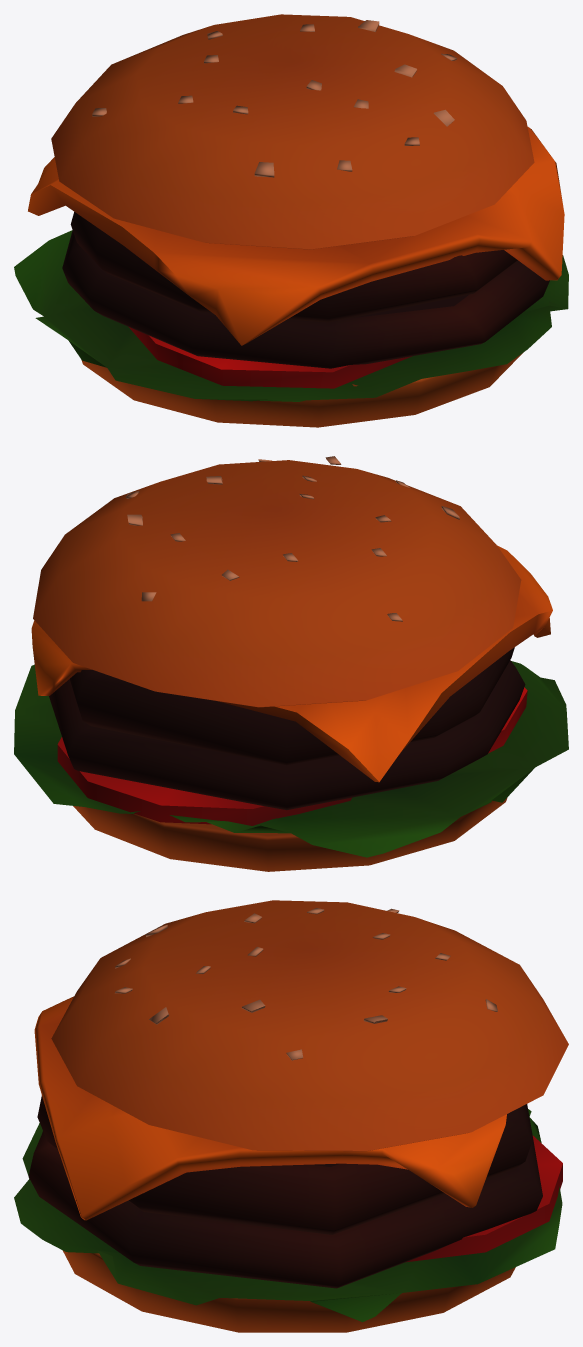
The model's file is Burger_Double.fbx.
3 views of the same model, one above another, from view 1: azimuth 30°, elevation 25°; view 2: azimuth 150°, elevation 25°; view 3: azimuth 270°, elevation 25° (orthographic). The views are drawn at different scales.
Parts seen in each view (by area): view 1: Burger_Double; view 2: Burger_Double; view 3: Burger_Double.
Part boxes in pixels (x1,y1,x2,y2): Burger_Double: (14, 14, 568, 427); Burger_Double: (14, 456, 568, 871); Burger_Double: (14, 900, 568, 1332).
Bounding box in the file's own units: 62.92 × 33.71 × 59.72.
